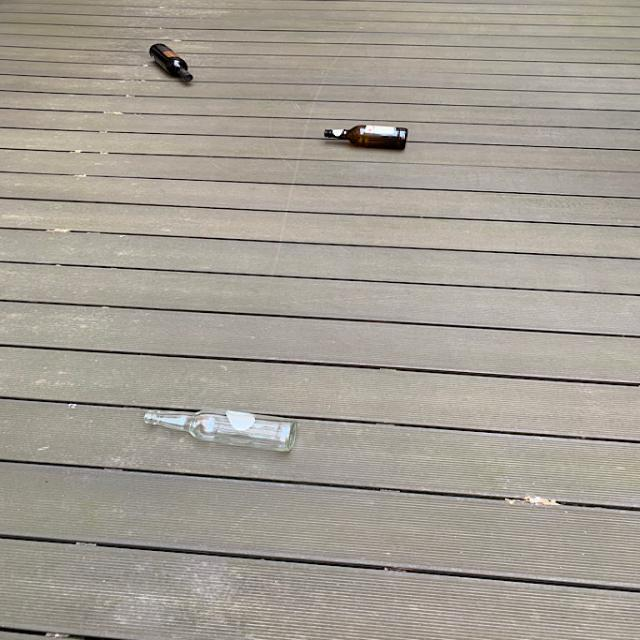litter: (140, 405, 302, 454), (319, 123, 415, 152), (145, 42, 196, 85)
